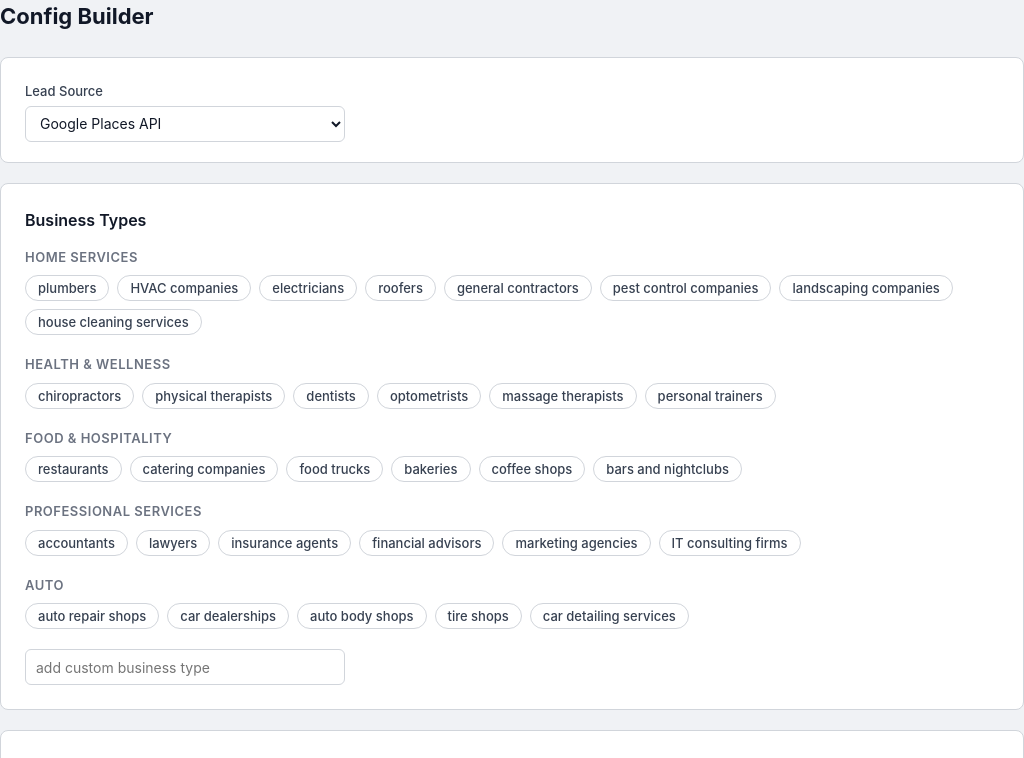
Scenario: ConfigBuilder — source selector › switching to Apify Facebook Pages shows keyword and location fields
Select "Apify — Facebook Pages Scraper" in the dropdown labelled "Lead Source" at (185, 124), box [25,106,345,142]
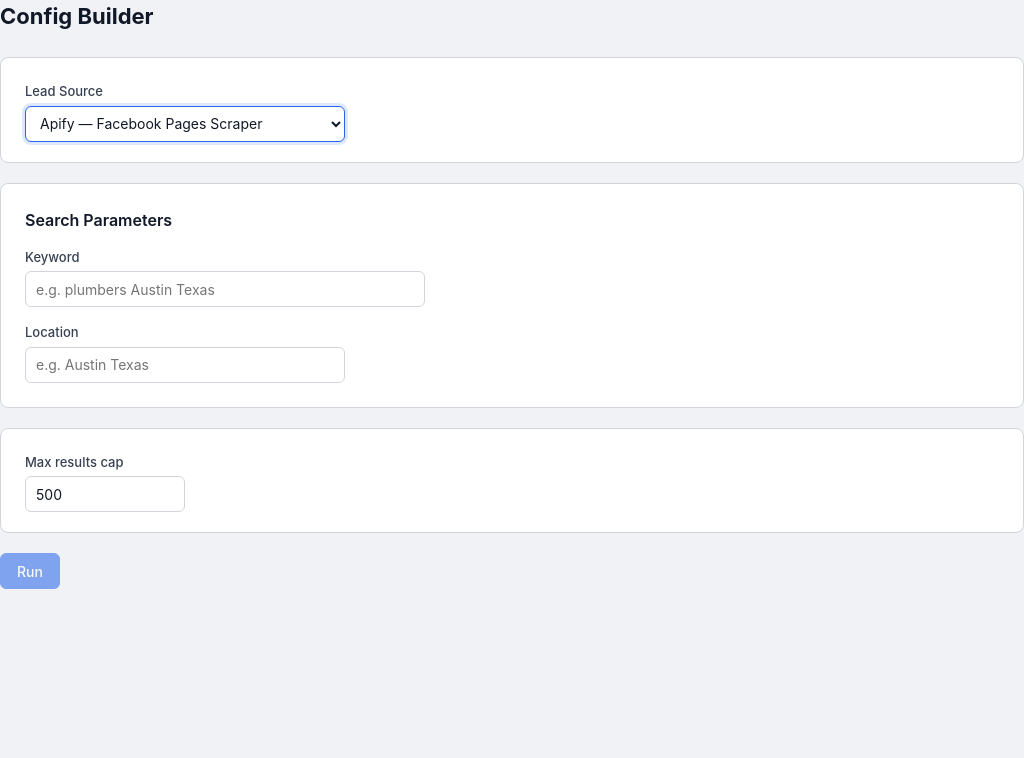
Now the field labelled "Keyword" is shown, box [25,271,425,307]
Now the field labelled "Location" is shown, box [25,346,345,382]
Now the heading "Home Services" is gone
